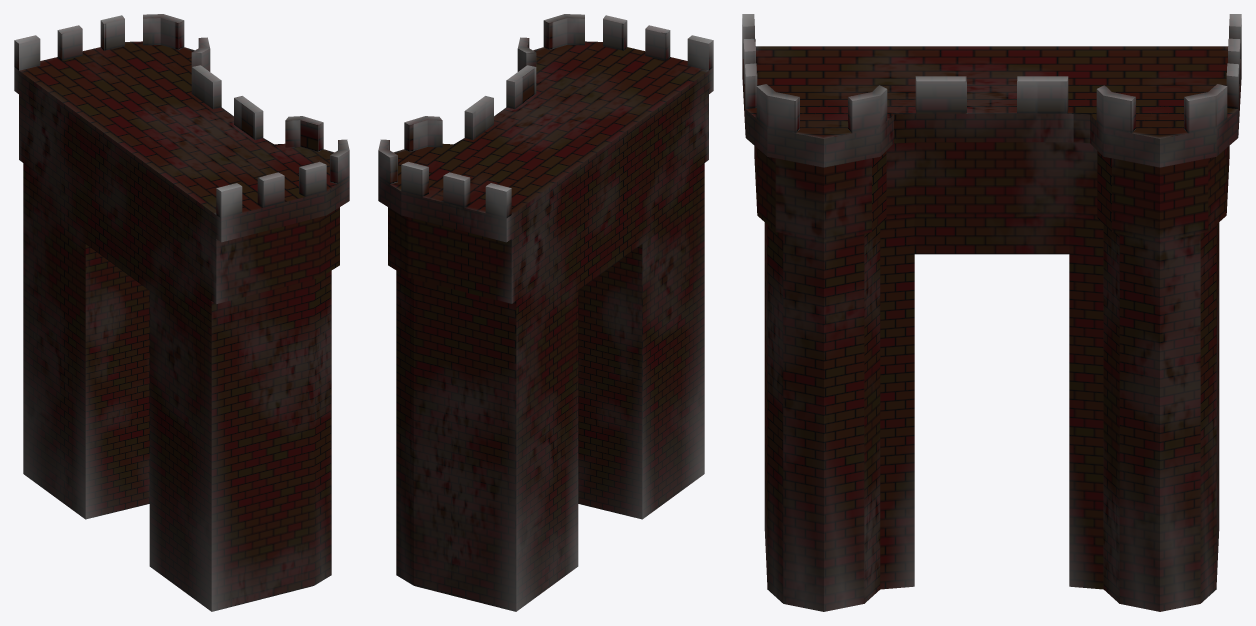
File: CastleDoor.fbx
3 views of the same model, side by side, from view 1: azimuth 30°, elevation 25°; view 2: azimuth 150°, elevation 25°; view 3: azimuth 270°, elevation 25° (orthographic). The views are drawn at different scales.
Parts seen in each view (by area): view 1: Cube.003; view 2: Cube.003; view 3: Cube.003.
Part boxes in pixels (box(x1,y1,x2,y2)): Cube.003: box(14, 14, 349, 611); Cube.003: box(378, 14, 713, 611); Cube.003: box(742, 14, 1241, 611).
Bounding box in the file's own units: 757 × 1961 × 1724.
Materials: 1 (1 with a texture image).
